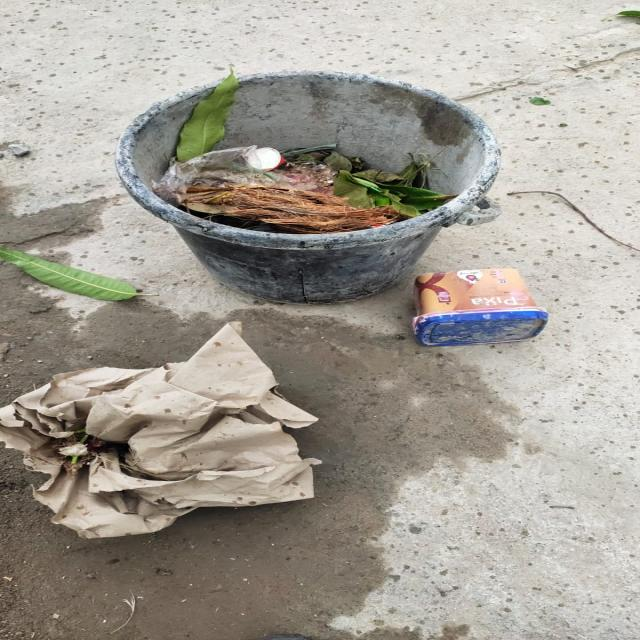paper: (13, 330, 362, 555)
plastic: (78, 62, 480, 294)
